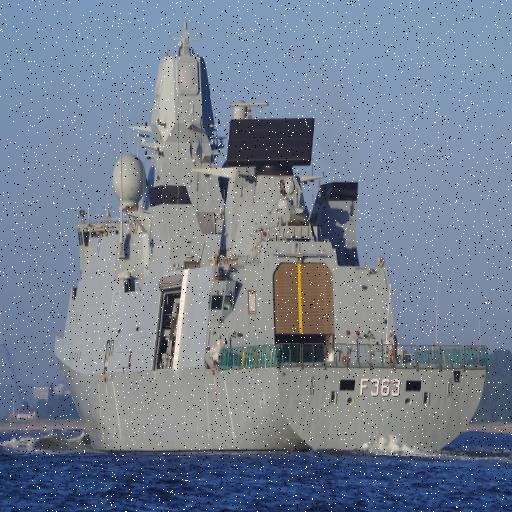Fragata: (44, 24, 495, 460)
